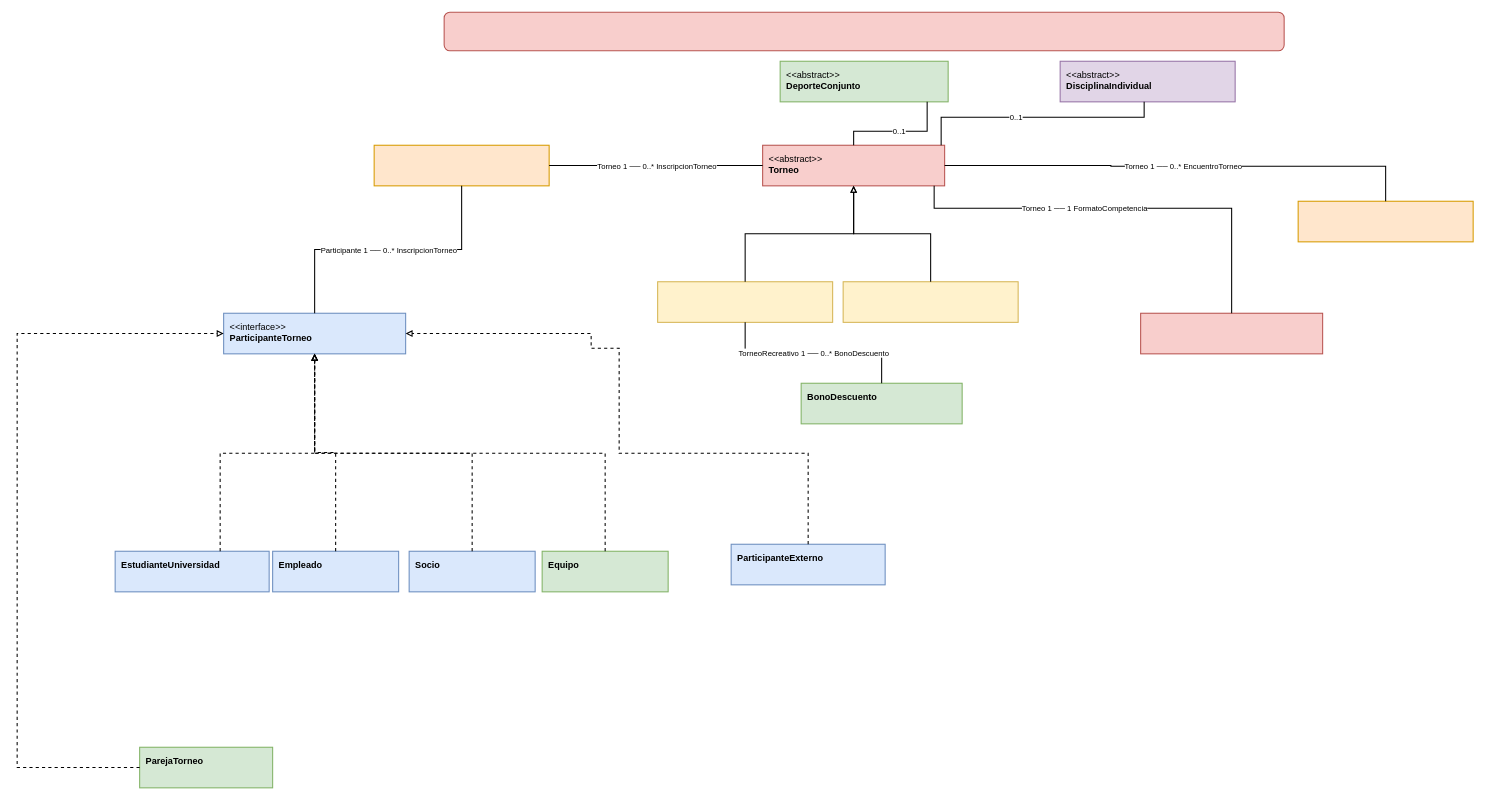
The diagram is 1486 pixels wide and 801 high, and some of its shapes have lost their labels. The shapes that lost their labels are listed below. From the top down, each one's centre as x and y in pixels, then its label:
At (x=863, y=31): "BLOQUE 8. TORNEOS INTERNOS".
At (x=461, y=165): "InscripcionTorneo".
At (x=1385, y=221): "EncuentroTorneo".
At (x=745, y=302): "TorneoRecreativo".
At (x=930, y=302): "TorneoCompetitivo".
At (x=1231, y=333): "<<abstract>> FormatoCompetencia".
